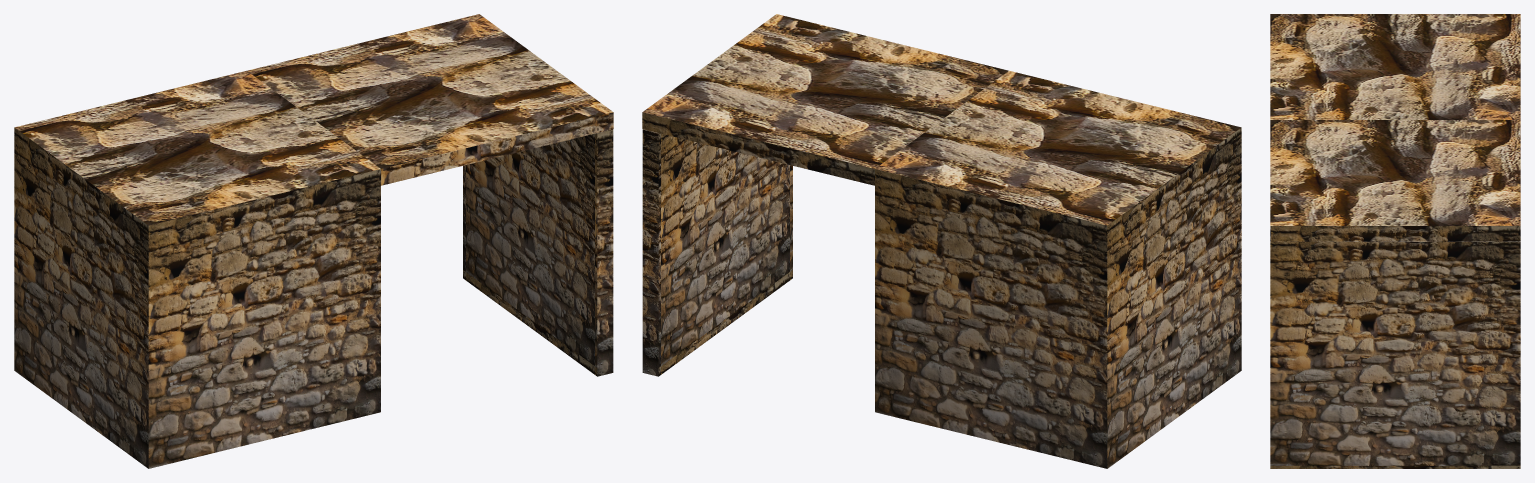
Rendered from wallWithGate.fbx.
3 views of the same model, side by side, from view 1: azimuth 30°, elevation 25°; view 2: azimuth 150°, elevation 25°; view 3: azimuth 270°, elevation 25° (orthographic). The views are drawn at different scales.
Visible parts, largest first — view 1: WallWithGate; view 2: WallWithGate; view 3: WallWithGate.
Boxes of the visible parts, bbox=[...] form: WallWithGate: bbox=[14, 14, 613, 468]; WallWithGate: bbox=[642, 14, 1241, 468]; WallWithGate: bbox=[1270, 14, 1520, 468].
Size of the model in its own units: 400 by 214 by 200.
1 material, 1 textured.
